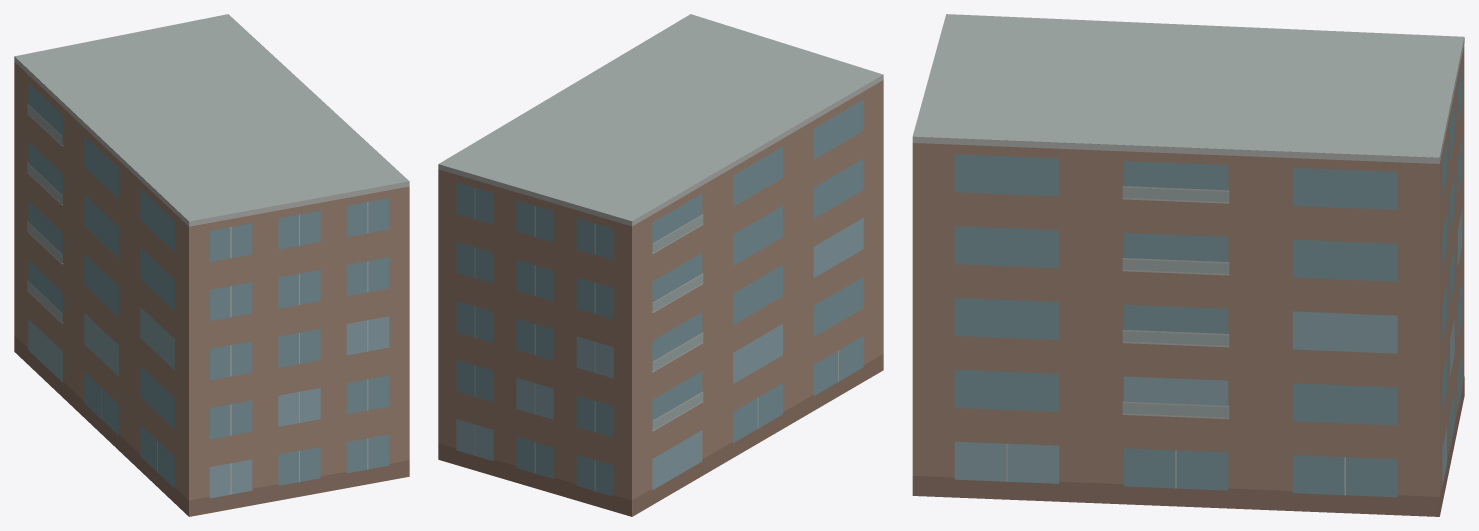
The model's file is survey-upis-32821110.glb.
3 renders of one model, left to right at view 1: azimuth 30°, elevation 25°; view 2: azimuth 150°, elevation 25°; view 3: azimuth 270°, elevation 25°, orthographic. The views are drawn at different scales.
Parts seen in each view (by area): view 1: survey-upis-32821110.tmp; view 2: survey-upis-32821110.tmp; view 3: survey-upis-32821110.tmp.
Boxes of the visible parts, x1,y1,x2,y2 form: survey-upis-32821110.tmp: [14, 14, 409, 516]; survey-upis-32821110.tmp: [438, 14, 883, 516]; survey-upis-32821110.tmp: [912, 14, 1464, 516].
Bounding box in the file's own units: 11.98 × 13.95 × 19.44.
